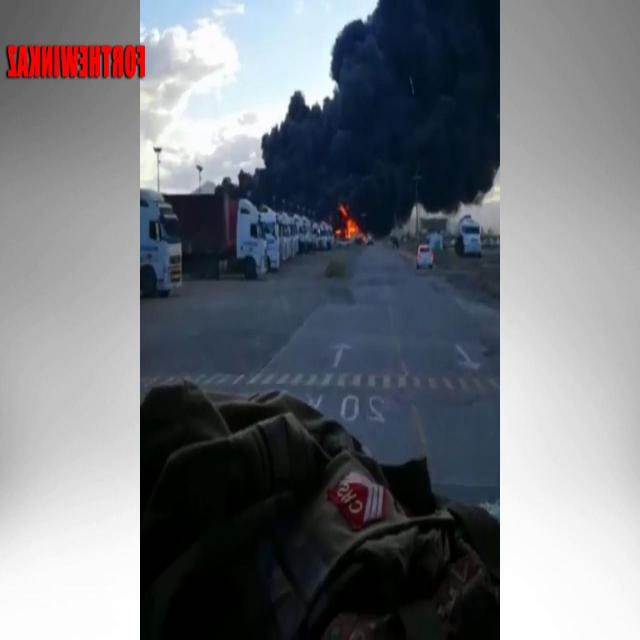fire: (331, 198, 367, 247)
